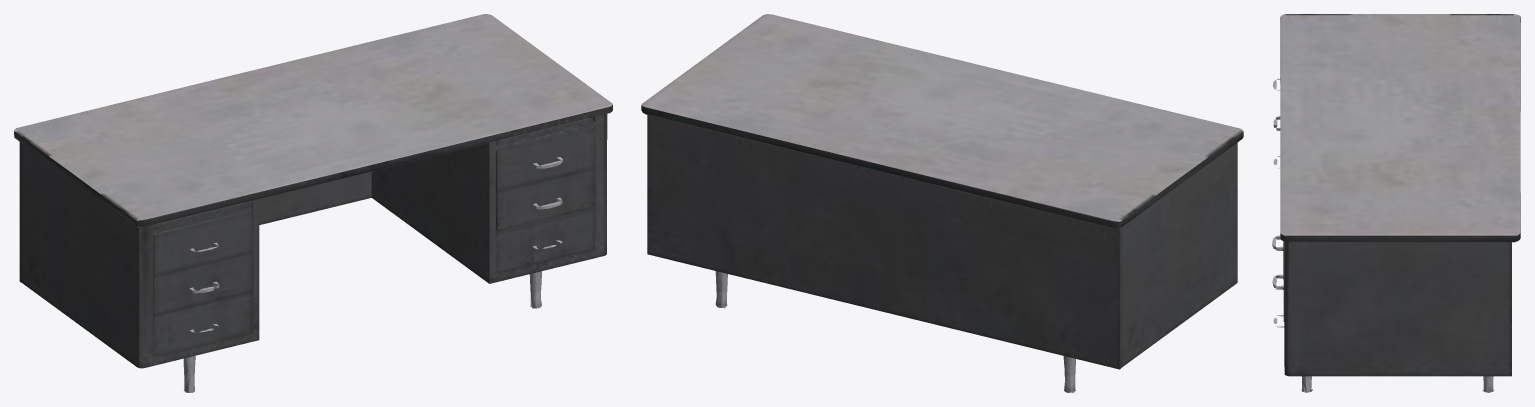
File: metal_desk.glb
3 views of the same model, side by side, from view 1: azimuth 30°, elevation 25°; view 2: azimuth 150°, elevation 25°; view 3: azimuth 270°, elevation 25° (orthographic). The views are drawn at different scales.
Visible parts, largest first — view 1: mesh; view 2: mesh; view 3: mesh.
Part boxes in pixels (x1,y1,x2,y2): mesh: (14,14,612,392); mesh: (641,14,1243,392); mesh: (1272,14,1520,392).
Bounding box in the file's own units: 2.01 × 0.79 × 0.9502.
Materials: 1 (1 with a texture image).
